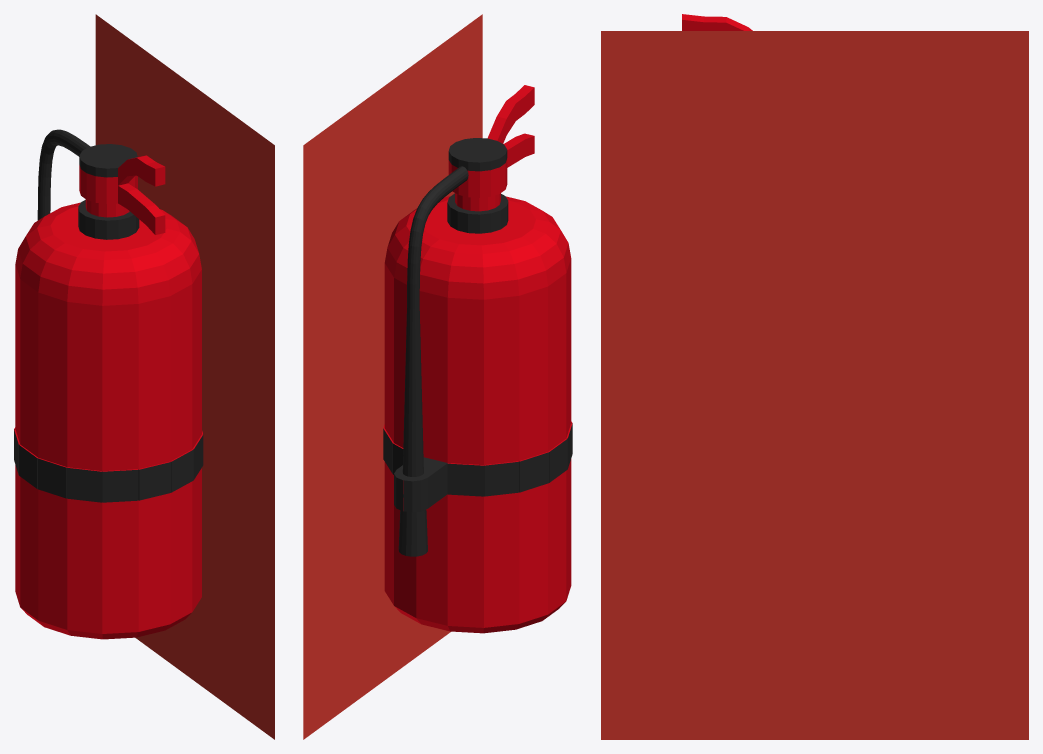
File: matafuegos.fbx
3 views of the same model, side by side, from view 1: azimuth 30°, elevation 25°; view 2: azimuth 150°, elevation 25°; view 3: azimuth 270°, elevation 25° (orthographic). The views are drawn at different scales.
Parts seen in each view (by area): view 1: Matafuegos; view 2: Matafuegos; view 3: Matafuegos.
Part boxes in pixels (left/top/right/bottom): Matafuegos: left=14, top=14, right=274, bottom=739; Matafuegos: left=303, top=14, right=572, bottom=739; Matafuegos: left=601, top=14, right=1028, bottom=739.
Bounding box in the file's own units: 158 × 556 × 304.
